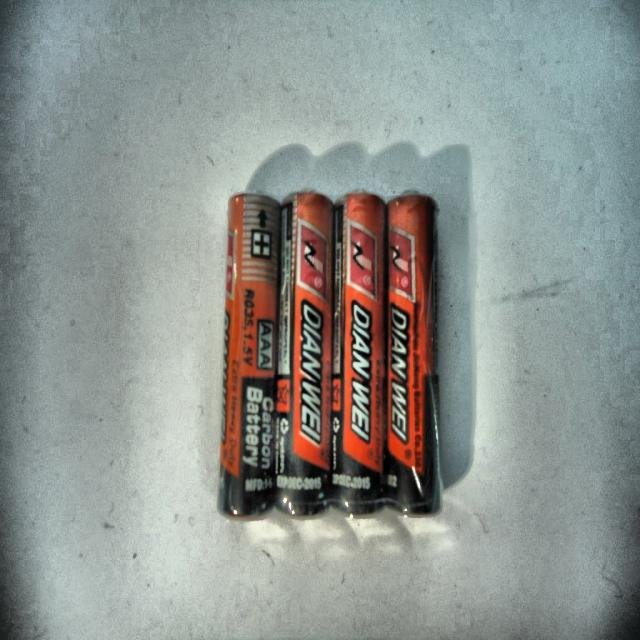Non-Valuable Waste - Batteries: (219, 193, 280, 517), (382, 195, 441, 513), (275, 192, 332, 515), (331, 193, 385, 513)
